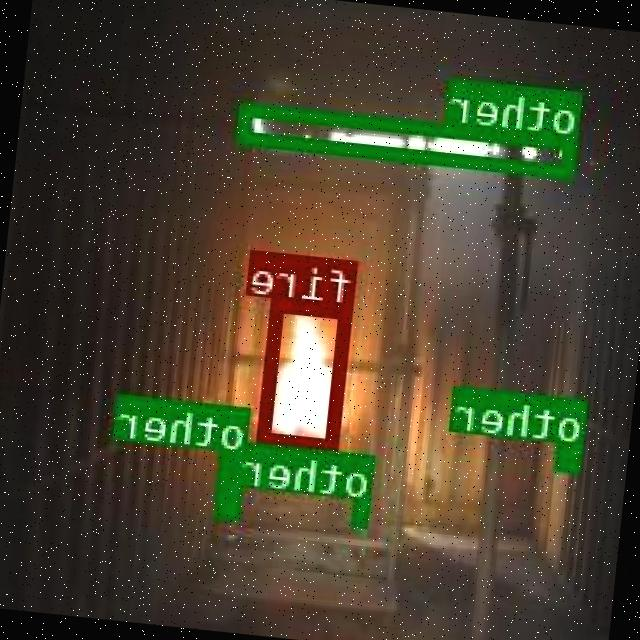fire: (259, 297, 356, 451)
